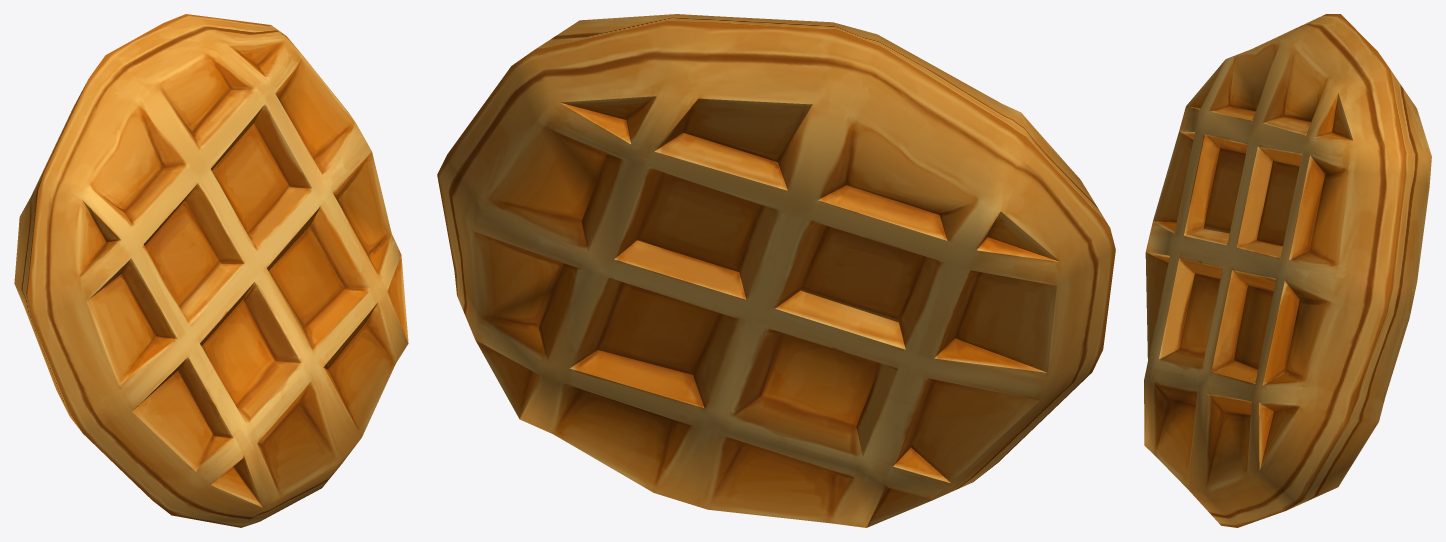
Rendered from waffle.FBX.
The picture shows the model from 3 angles, left to right: view 1: azimuth 30°, elevation 25°; view 2: azimuth 150°, elevation 25°; view 3: azimuth 270°, elevation 25°; orthographic projection. The views are drawn at different scales.
Visible parts, largest first — view 1: waffle; view 2: waffle; view 3: waffle.
Boxes of the visible parts, box(x1,y1,x2,y2) form: waffle: box(14, 14, 408, 527); waffle: box(437, 14, 1115, 527); waffle: box(1144, 14, 1431, 527).
Size of the model in its own units: 5.11 by 4.97 by 2.97.
